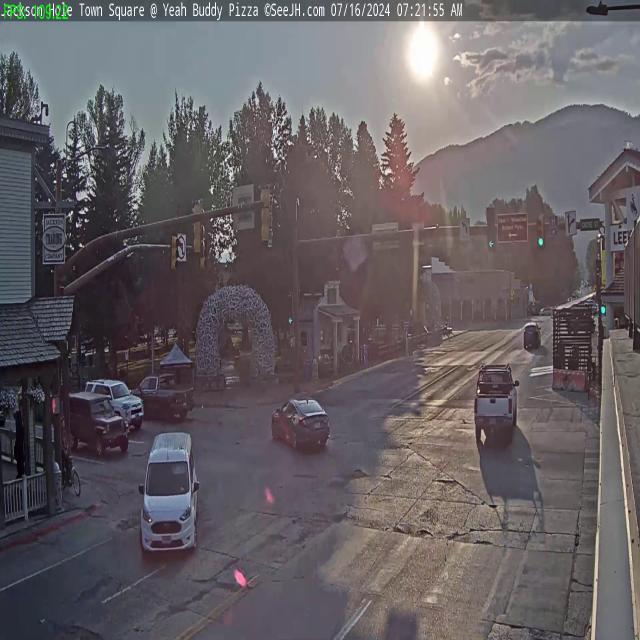bike: (53, 463, 82, 499)
person: (62, 421, 72, 474)
pickup: (474, 363, 518, 438), (138, 369, 194, 424)
sedan: (270, 392, 330, 453)
suv: (65, 392, 128, 462), (84, 378, 144, 430)
traffic light: (190, 199, 203, 256), (261, 184, 272, 246), (486, 206, 497, 250), (170, 234, 180, 273), (537, 214, 545, 248)
van: (138, 428, 198, 556)
